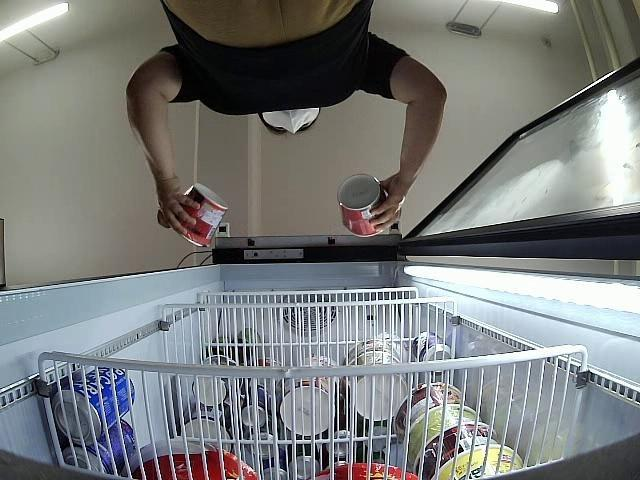01_ShinRamen_L: (337, 174, 392, 237), (174, 184, 228, 246)
